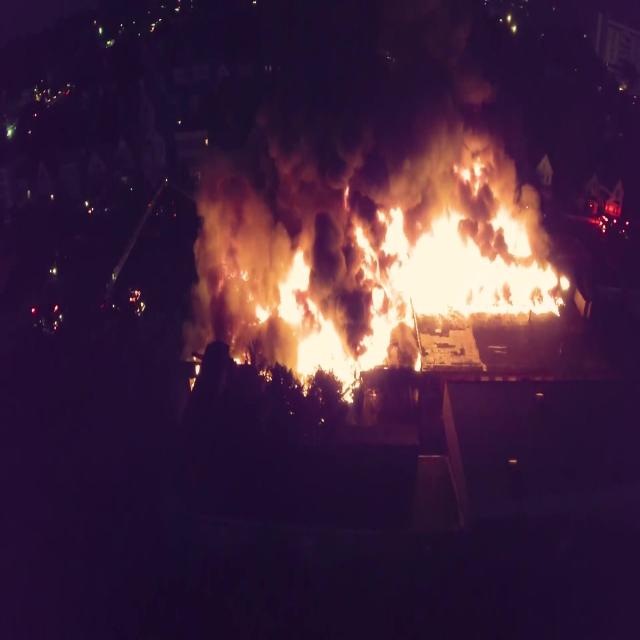Fire: (245, 242, 396, 399), (371, 203, 564, 324)
Smoke: (198, 2, 472, 276)
